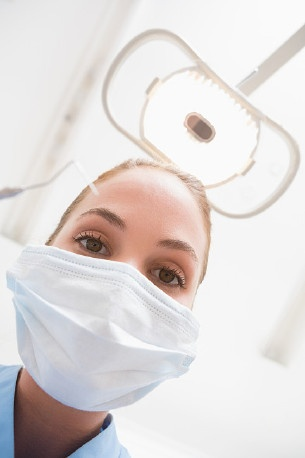Mask: (5, 204, 214, 413)
